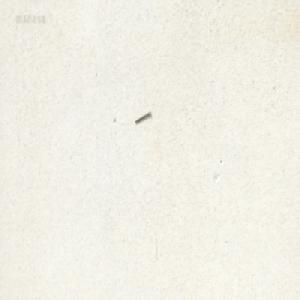Bolt: (134, 109, 150, 124)
